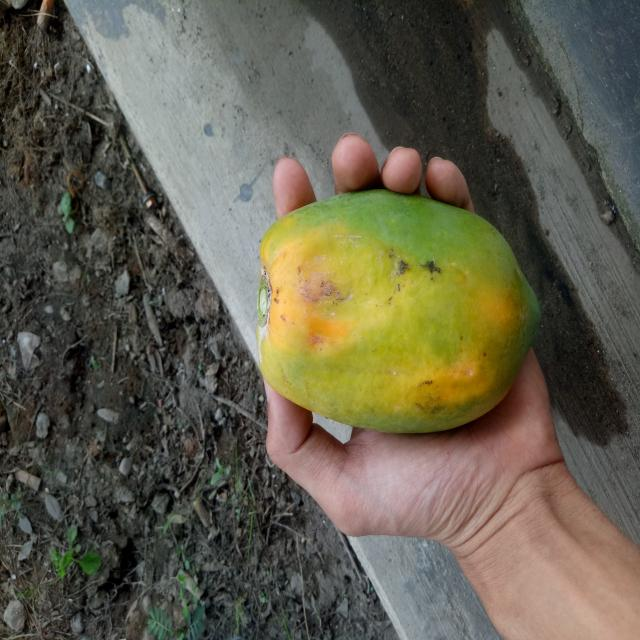Pepaya rippen: (238, 187, 550, 460)
